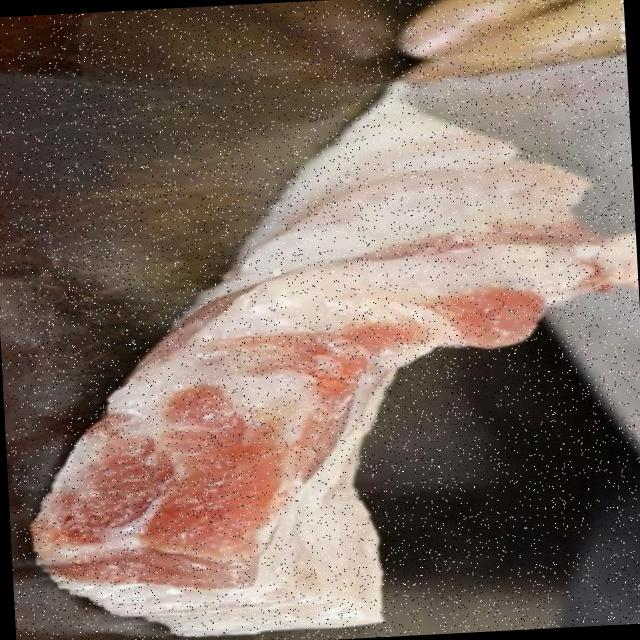pork: (6, 96, 640, 640)
